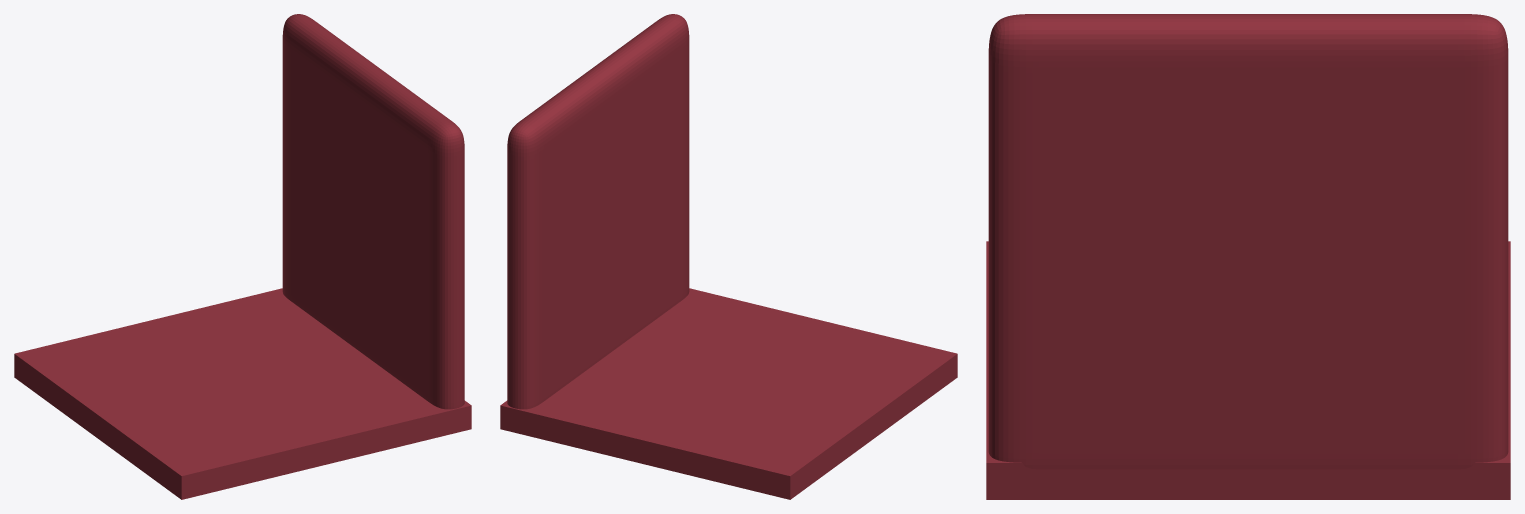
Rendered from Chair.fbx.
3 renders of one model, left to right at view 1: azimuth 30°, elevation 25°; view 2: azimuth 150°, elevation 25°; view 3: azimuth 270°, elevation 25°, orthographic. The views are drawn at different scales.
Visible parts, largest first — view 1: Куб; view 2: Куб; view 3: Куб.
Part boxes in pixels (x1,y1,x2,y2): Куб: [14, 14, 471, 499]; Куб: [500, 14, 957, 499]; Куб: [986, 14, 1510, 499].
Bounding box in the file's own units: 2 × 1.99 × 2.
